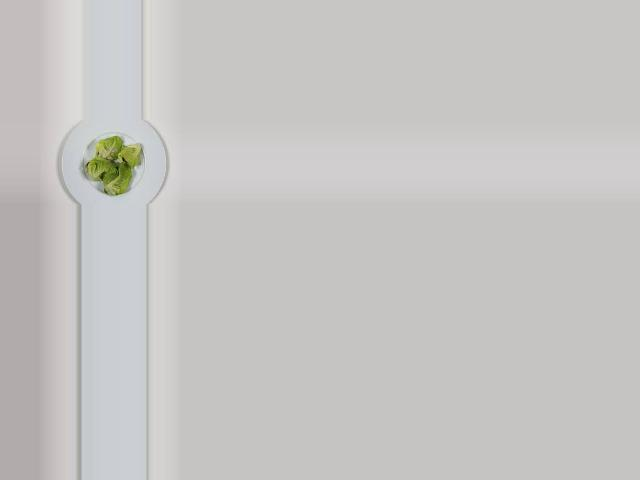lettuce: (83, 137, 143, 201)
